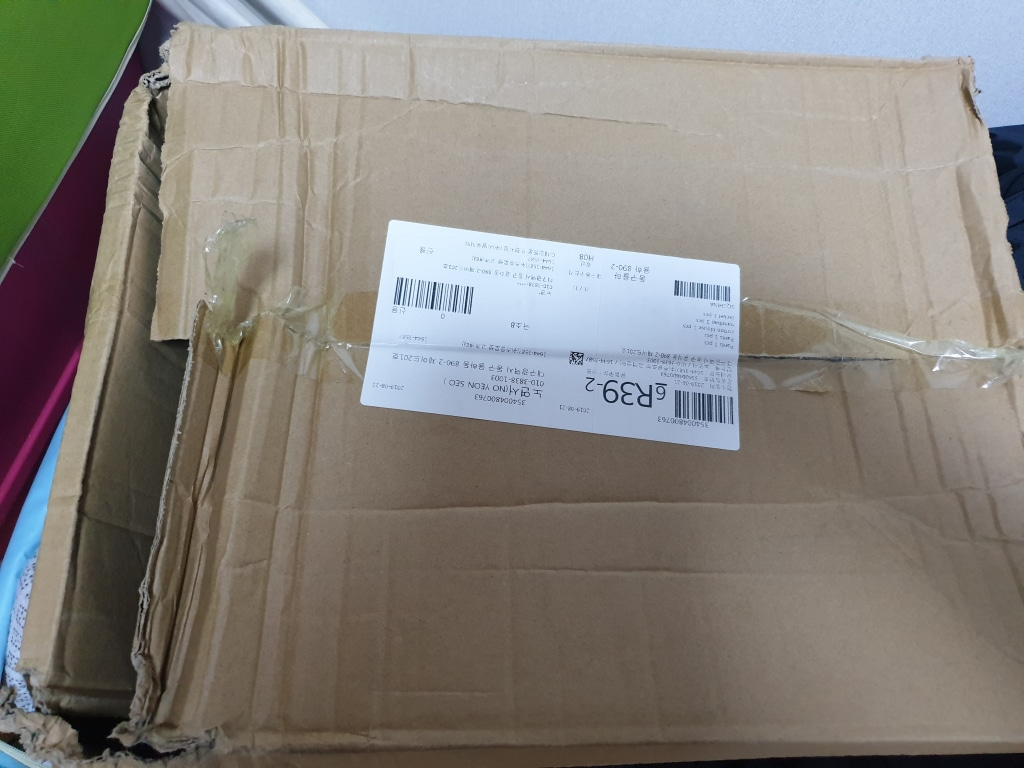damaged package: (0, 57, 227, 767)
